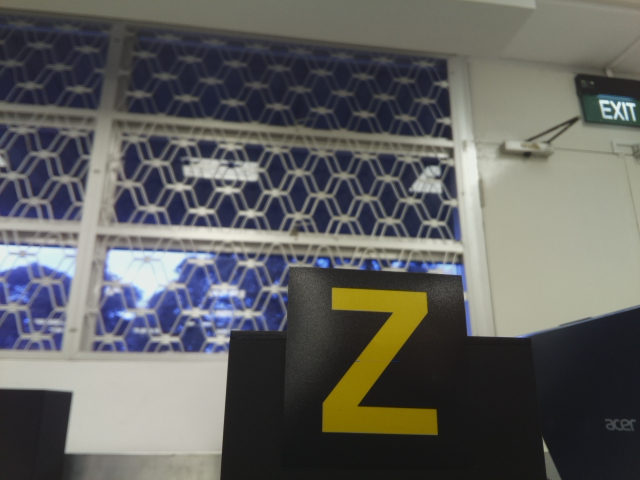z: (316, 284, 441, 439)
